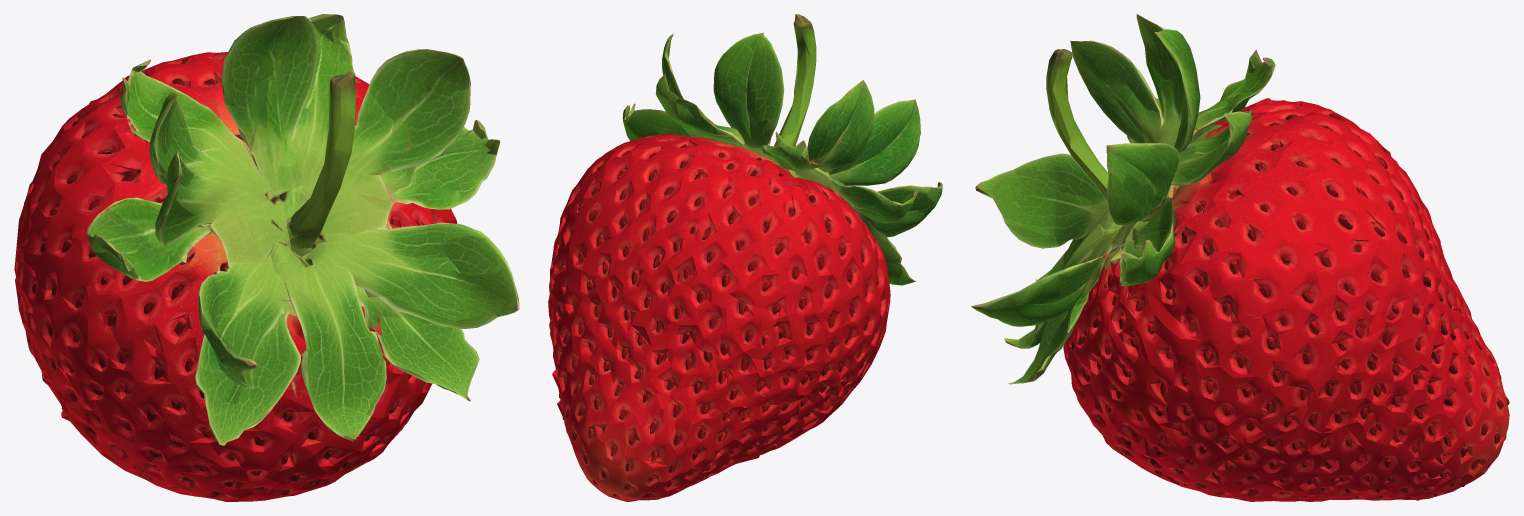
File: strawberry.glb
3 renders of one model, left to right at view 1: azimuth 30°, elevation 25°; view 2: azimuth 150°, elevation 25°; view 3: azimuth 270°, elevation 25°, orthographic. The views are drawn at different scales.
Visible parts, largest first — view 1: Mesh_0; view 2: Mesh_0; view 3: Mesh_0.
Part boxes in pixels (<box>): Mesh_0: <box>14,14,519,501</box>; Mesh_0: <box>548,14,942,501</box>; Mesh_0: <box>971,14,1509,501</box>.
Size of the model in its own units: 1.44 by 1.78 by 1.9.
Materials: 1 (1 with a texture image).
